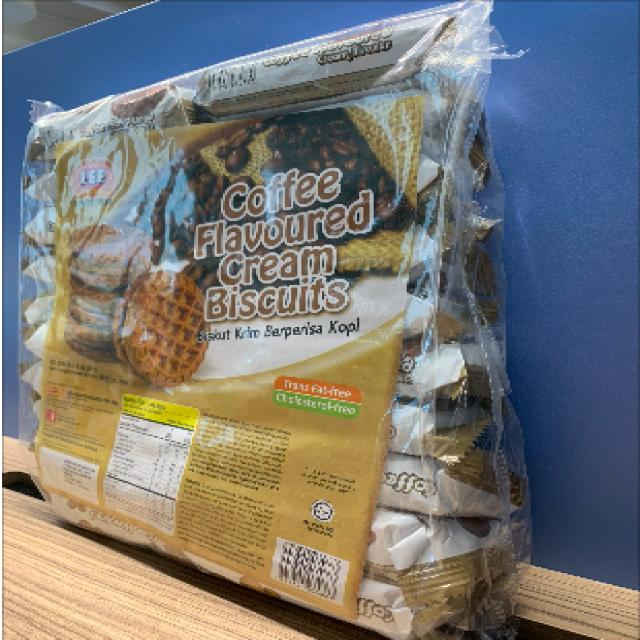object_name: (39, 69, 490, 564)
